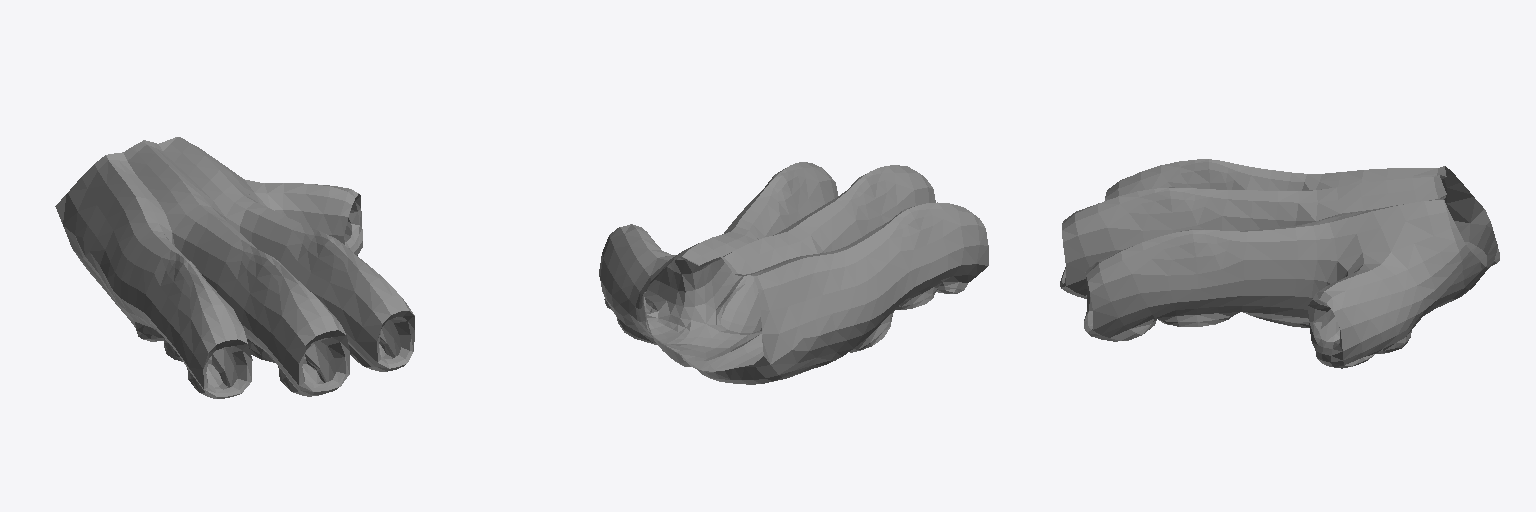
File: pied_avant_droit.obj
3 renders of one model, left to right at view 1: azimuth 30°, elevation 25°; view 2: azimuth 150°, elevation 25°; view 3: azimuth 270°, elevation 25°, orthographic.
Visible parts, largest first — view 1: Cube.001_Cube.006, Cube.002_Cube.001; view 2: Cube.001_Cube.006, Cube.002_Cube.001; view 3: Cube.001_Cube.006, Cube.002_Cube.001.
Boxes of the visible parts, <box> form: Cube.001_Cube.006: <box>55,137,393,398</box>; Cube.002_Cube.001: <box>156,225,414,398</box>; Cube.001_Cube.006: <box>599,165,987,384</box>; Cube.002_Cube.001: <box>752,162,988,302</box>; Cube.001_Cube.006: <box>1121,159,1499,368</box>; Cube.002_Cube.001: <box>1060,160,1242,341</box>.
Size of the model in its own units: 0.7361 by 0.3334 by 1.02.